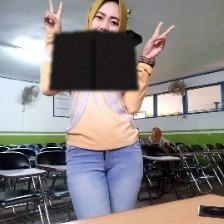Cadar_Niqab: (49, 0, 139, 90)
